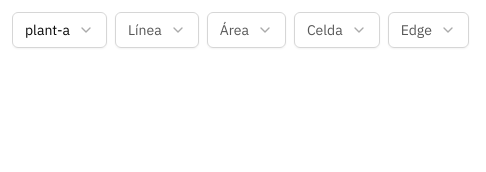
it: ContextBar › populates the dropdown with the real, derived site options (not just an empty combobox)
This screenshot has width=486, height=172.
Click the dropdown labelled "plant-a": (60, 30) [12,12,107,48]
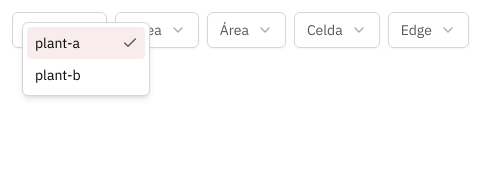
Expected: the option "plant-a" is shown, [27,27,145,59]
Expected: the option "plant-b" is shown, [35,66,81,84]
